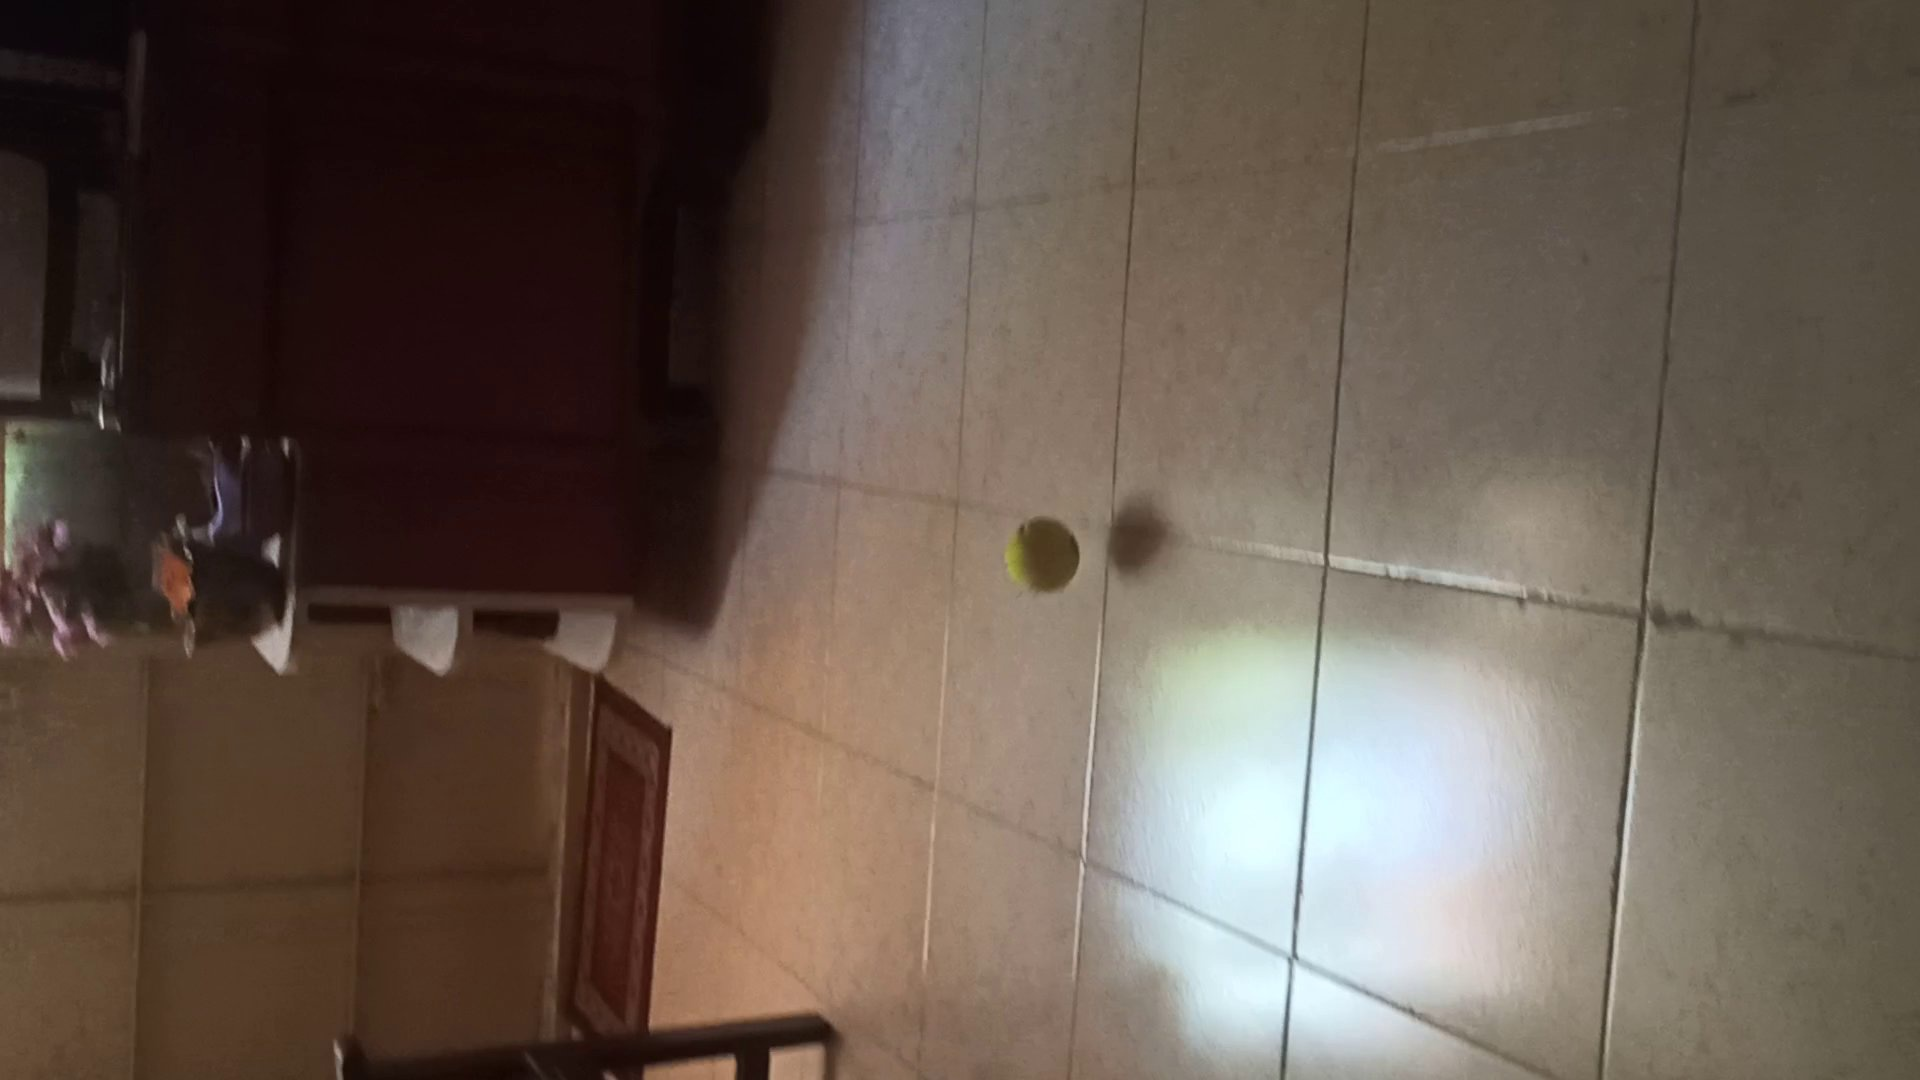Tennis-Ball: (998, 517, 1083, 597)
